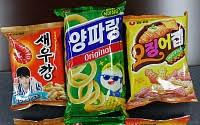snack: (54, 0, 129, 118), (123, 10, 199, 110), (0, 21, 69, 111)
